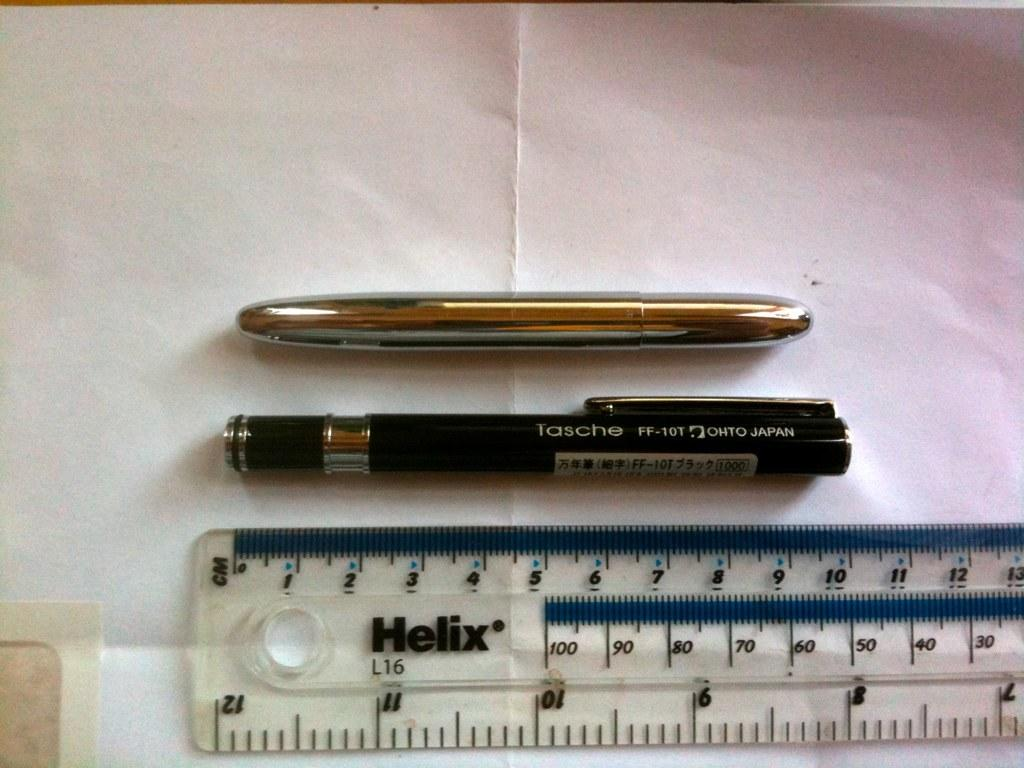pen: (222, 393, 854, 475), (227, 284, 821, 362)
